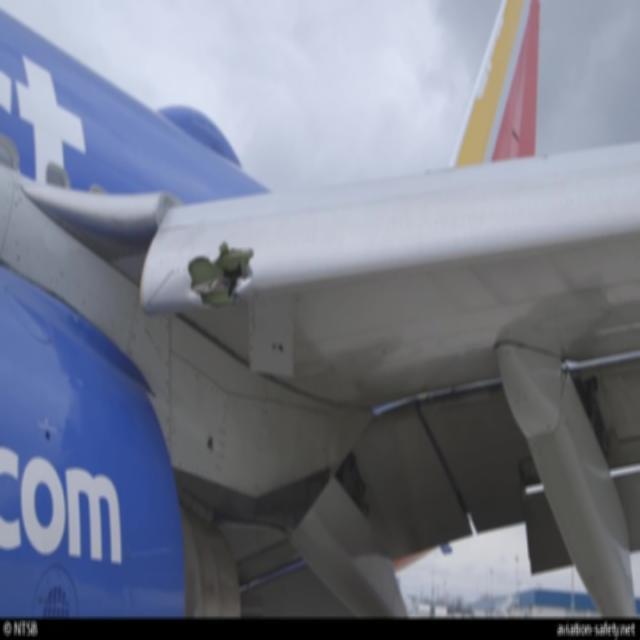crack: (188, 242, 256, 313)
